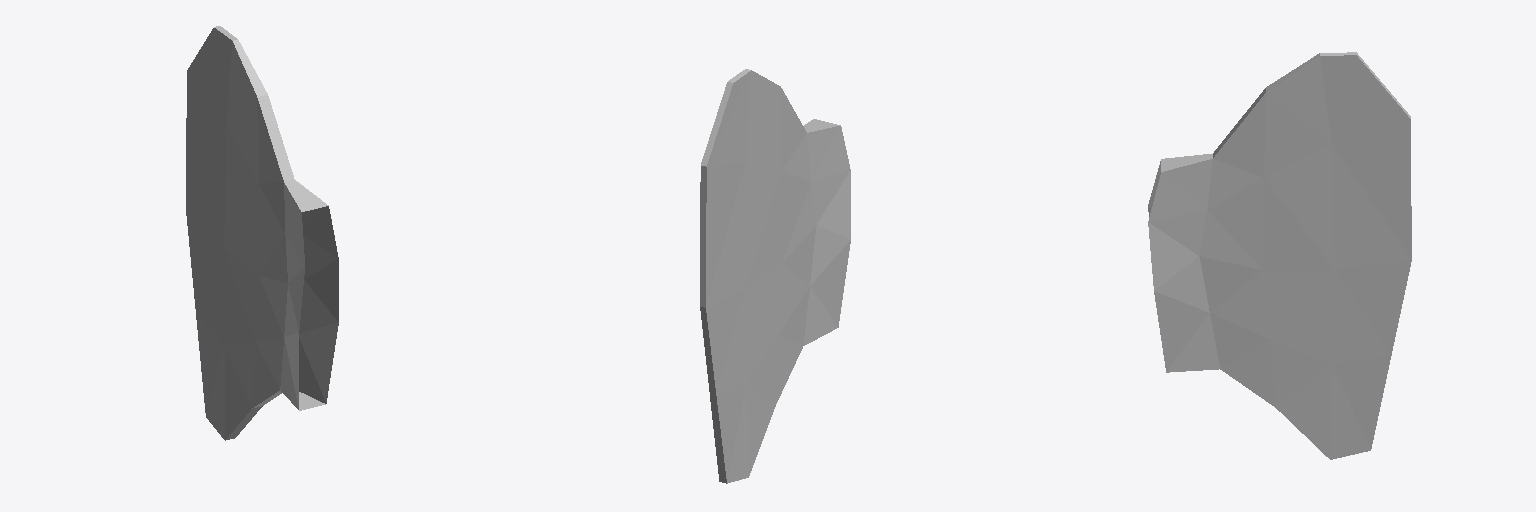
File: cola.obj
The picture shows the model from 3 angles: view 1: azimuth 30°, elevation 25°; view 2: azimuth 150°, elevation 25°; view 3: azimuth 270°, elevation 25°; orthographic projection.
Parts seen in each view (by area): view 1: polySurface1; view 2: polySurface1; view 3: polySurface1.
Part boxes in pixels (x1,y1,x2,y2): polySurface1: (186, 26, 338, 440); polySurface1: (700, 69, 850, 483); polySurface1: (1148, 52, 1411, 459).
Size of the model in its own units: 0.1423 by 1.38 by 0.8186.